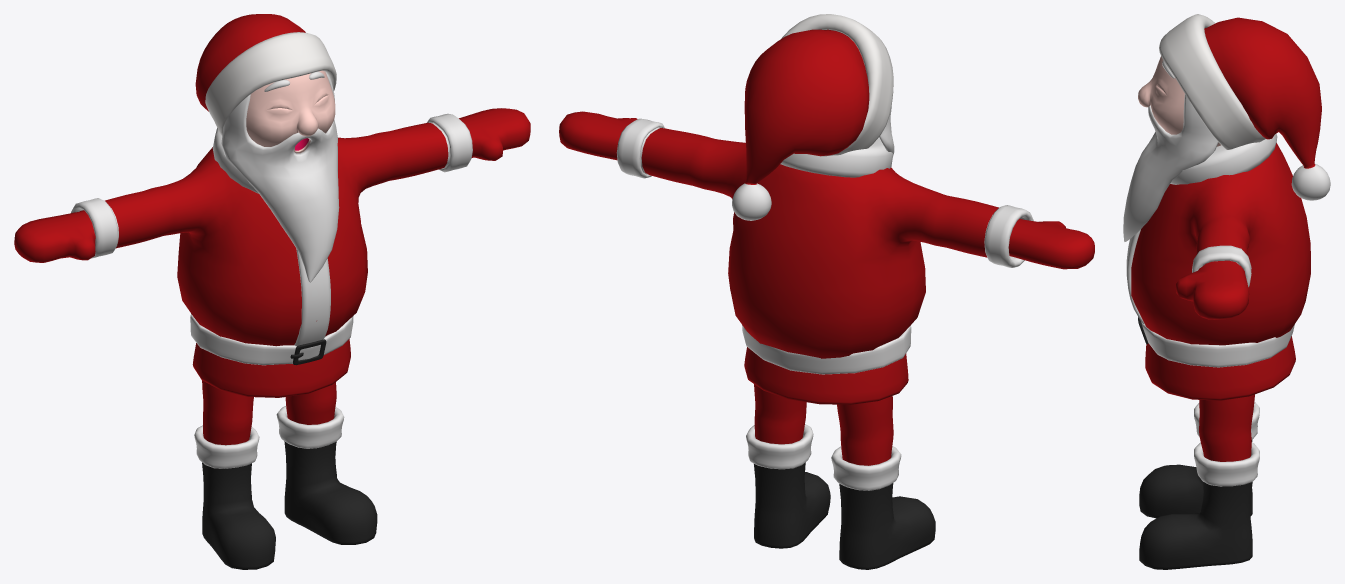
The model's file is santa.FBX.
3 renders of one model, left to right at view 1: azimuth 30°, elevation 25°; view 2: azimuth 150°, elevation 25°; view 3: azimuth 270°, elevation 25°, orthographic. The views are drawn at different scales.
Visible parts, largest first — view 1: santa; view 2: santa; view 3: santa.
Boxes of the visible parts, x1=… form: santa: x1=14, y1=14, x2=530, y2=569; santa: x1=559, y1=14, x2=1094, y2=569; santa: x1=1123, y1=14, x2=1330, y2=569.
Bounding box in the file's own units: 516 × 486 × 178.
